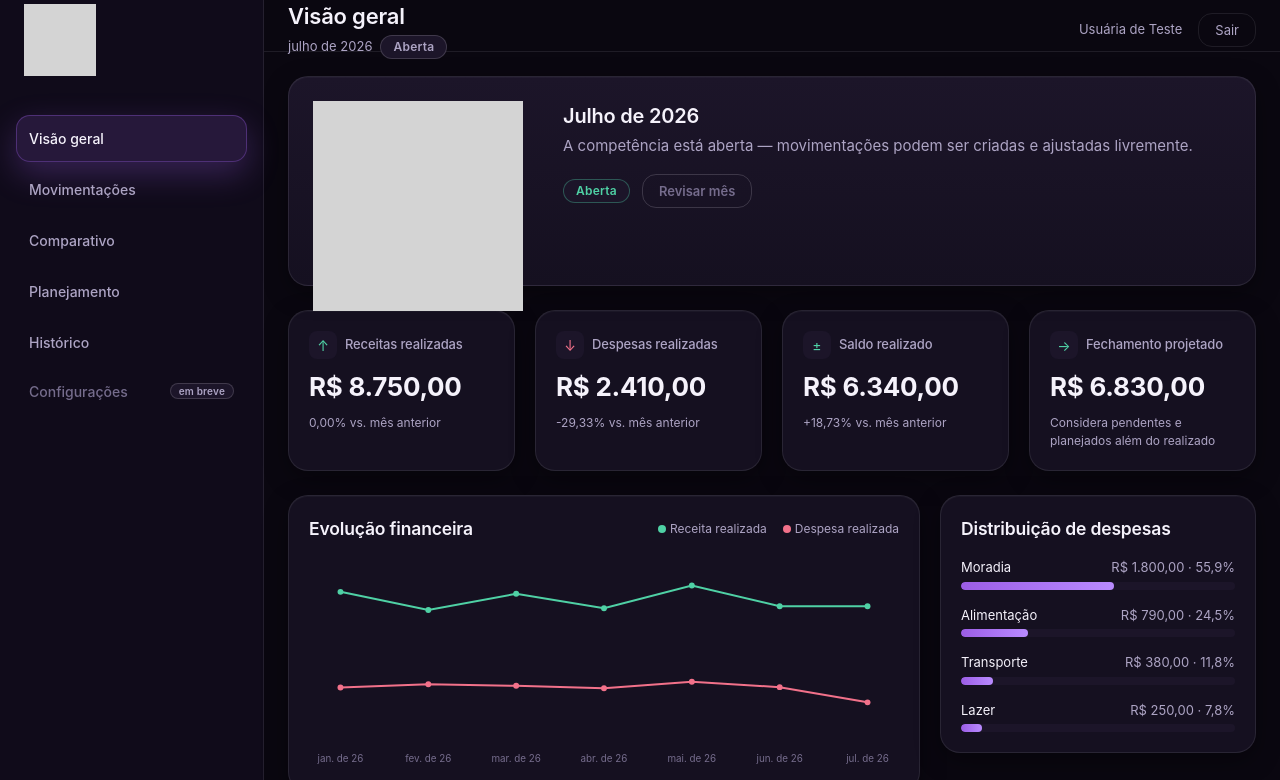
App › navega para /planejamento ao clicar em "Planejamento", atualizando aria-current e o título do cabeçalho
The width and height of the screenshot is (1280, 780).
Click the link "Planejamento" at [74, 291], box x1=29 y1=282 x2=120 y2=300
(page scrolled)
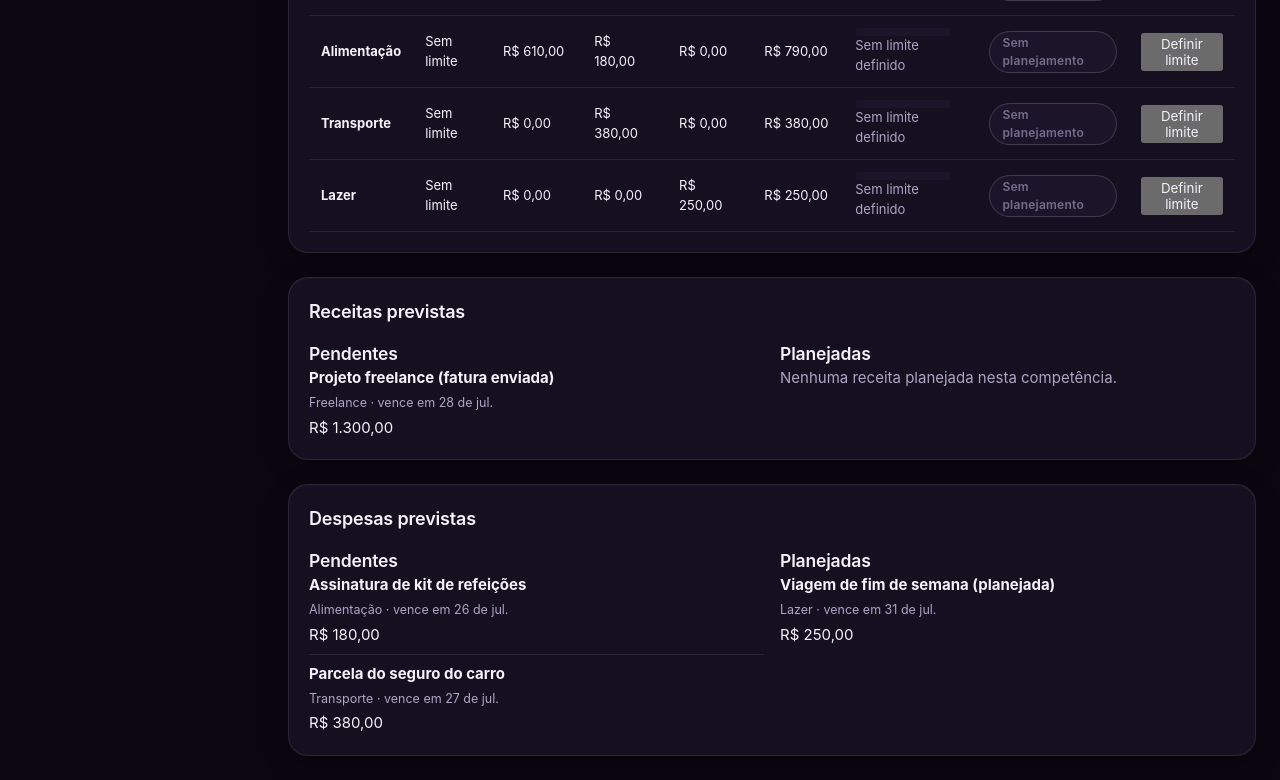
Result: the heading "Despesas previstas" is shown at x1=309 y1=508 x2=476 y2=529
